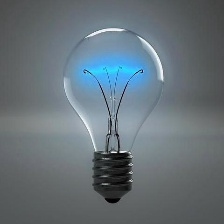light_bulb: (60, 24, 165, 207)
